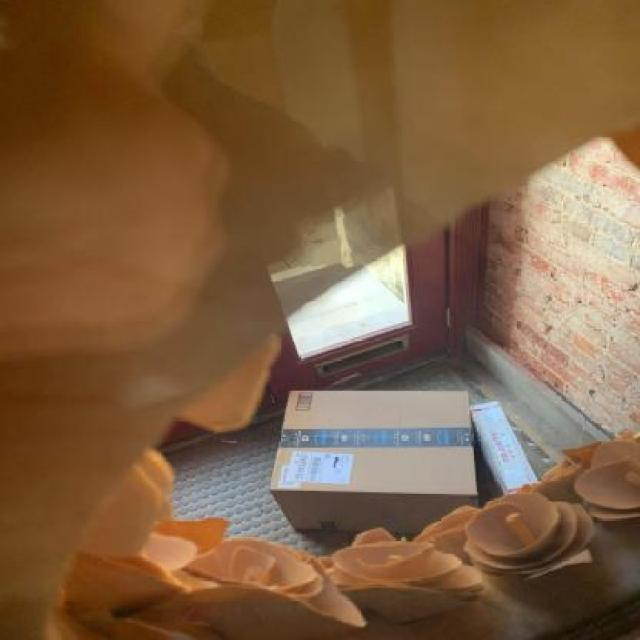cardboxes: (269, 389, 477, 533), (471, 399, 542, 495)
